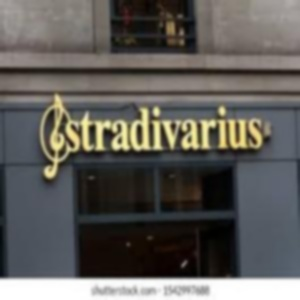stradivarius: (265, 44, 283, 132)
